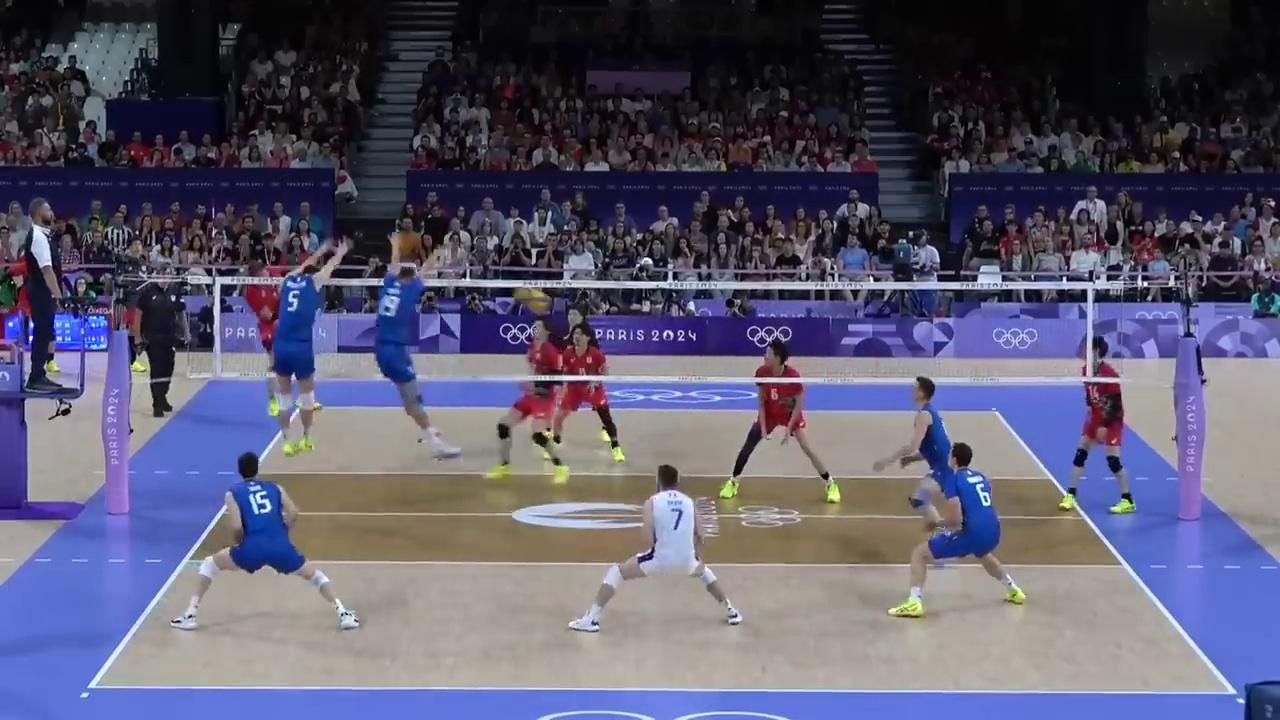ball: (523, 290, 548, 312)
